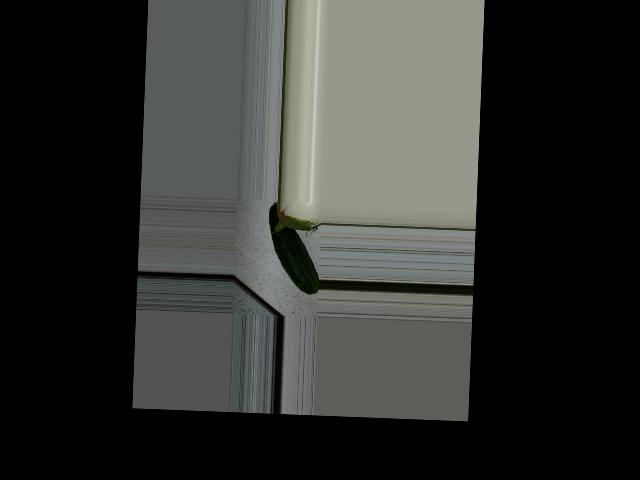cucumber: (266, 202, 322, 294)
